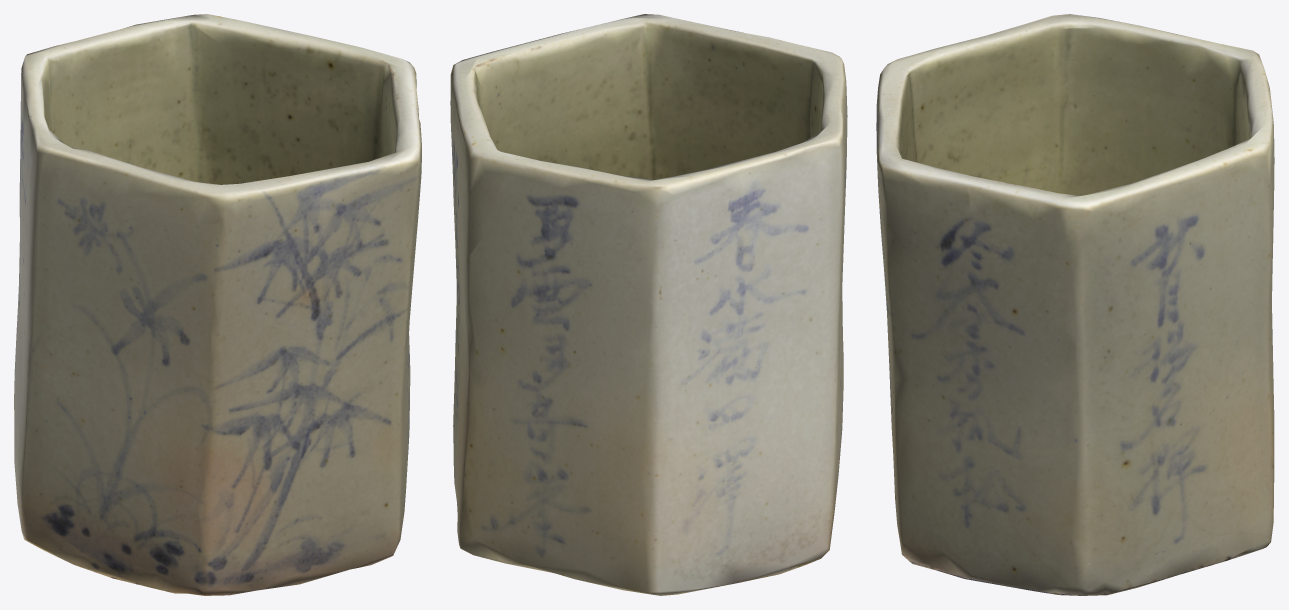
Rendered from SM_Brush_Holder_01.fbx.
The picture shows the model from 3 angles, left to right: view 1: azimuth 30°, elevation 25°; view 2: azimuth 150°, elevation 25°; view 3: azimuth 270°, elevation 25°; orthographic projection.
Visible parts, largest first — view 1: KCDF_2022_prop_Brush_Holder_01_Mesh; view 2: KCDF_2022_prop_Brush_Holder_01_Mesh; view 3: KCDF_2022_prop_Brush_Holder_01_Mesh.
Boxes of the visible parts, x1=… form: KCDF_2022_prop_Brush_Holder_01_Mesh: x1=14, y1=14, x2=421, y2=595; KCDF_2022_prop_Brush_Holder_01_Mesh: x1=450, y1=14, x2=847, y2=595; KCDF_2022_prop_Brush_Holder_01_Mesh: x1=876, y1=14, x2=1274, y2=595.
Size of the model in its own units: 29.19 by 31.07 by 26.52.
1 material, 1 textured.
